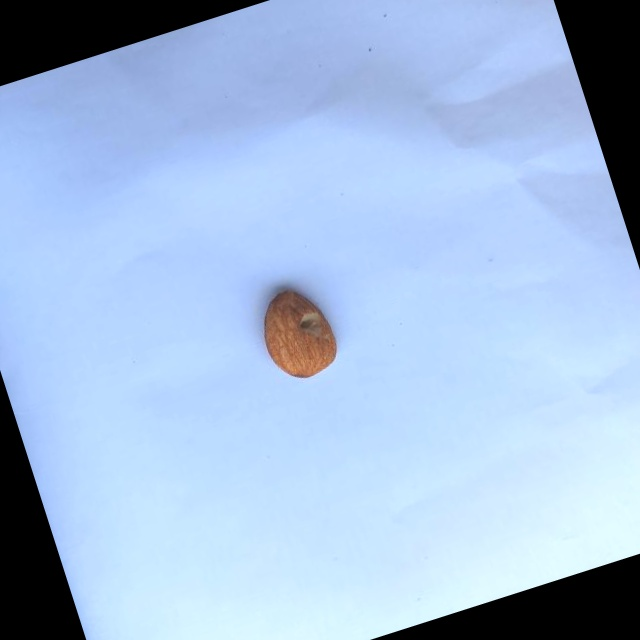grade3: (249, 275, 350, 391)
